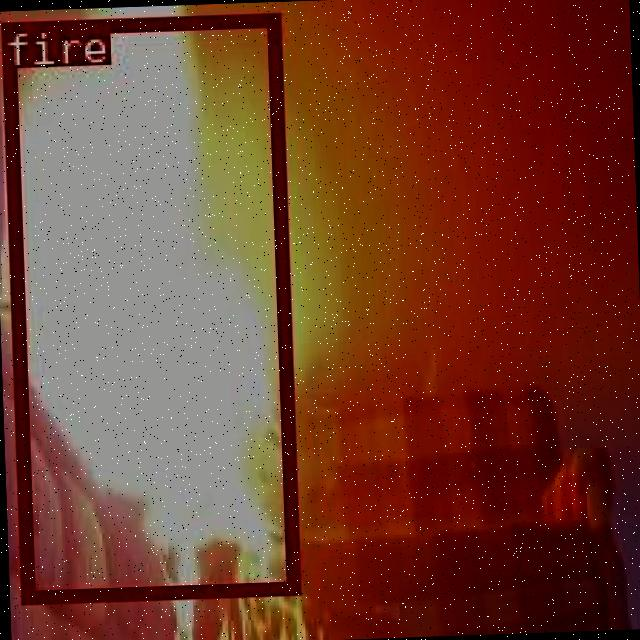fire: (0, 10, 297, 601)
